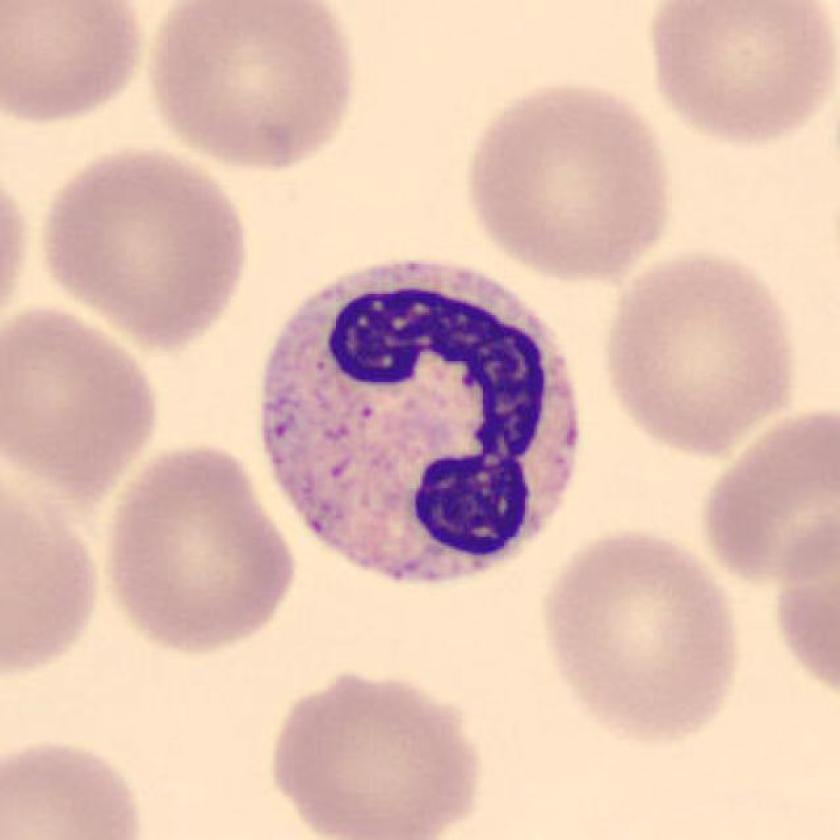neutrophil: (258, 261, 581, 589)
